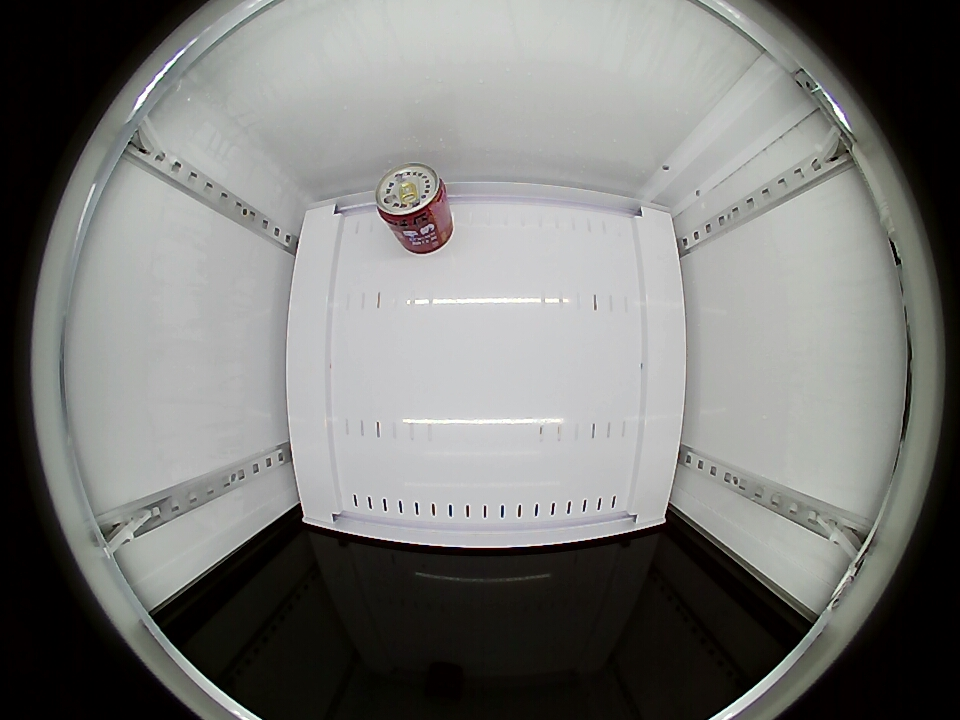wangzainiunai: (375, 163, 451, 239)
